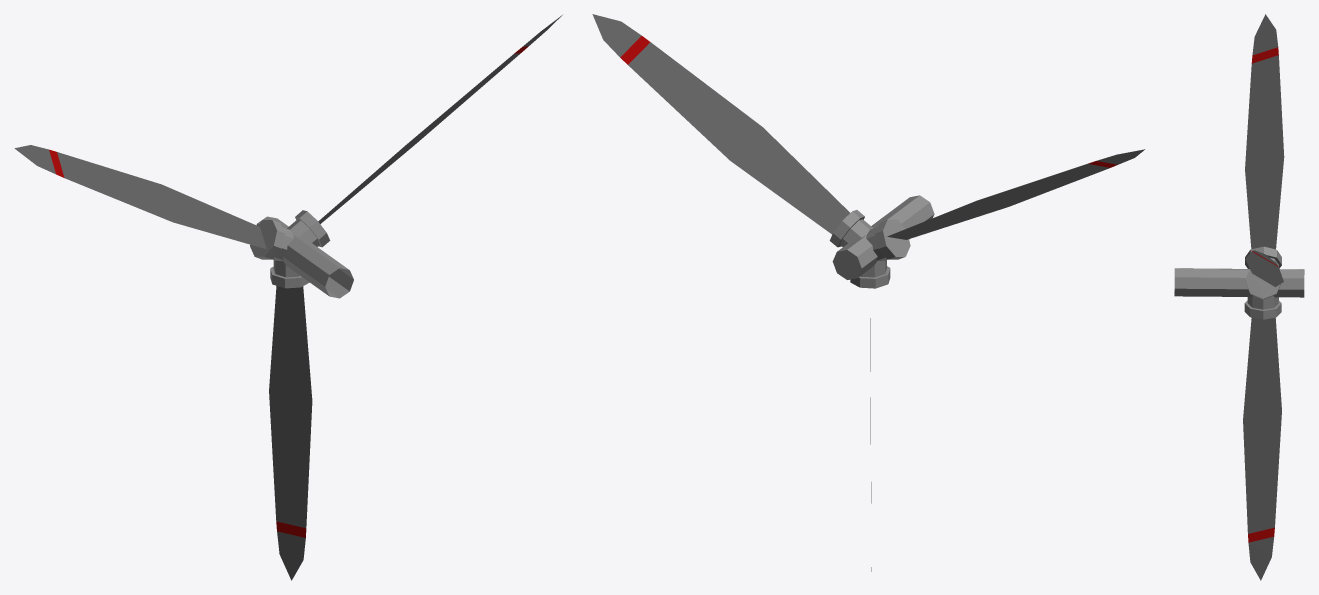
The model's file is Prop_99NP.obj.
3 renders of one model, left to right at view 1: azimuth 30°, elevation 25°; view 2: azimuth 150°, elevation 25°; view 3: azimuth 270°, elevation 25°, orthographic. The views are drawn at different scales.
Visible parts, largest first — view 1: ShapeIndexedFaceSet.002_ShapeIndexedFaceSet.003, ShapeIndexedFaceSet.001_ShapeIndexedFaceSet.002; view 2: ShapeIndexedFaceSet.002_ShapeIndexedFaceSet.003, ShapeIndexedFaceSet.001_ShapeIndexedFaceSet.002; view 3: ShapeIndexedFaceSet.002_ShapeIndexedFaceSet.003, ShapeIndexedFaceSet.001_ShapeIndexedFaceSet.002, ShapeIndexedFaceSet.003_ShapeIndexedFaceSet.004.
Part boxes in pixels (box(x1,y1,x2,y2)): ShapeIndexedFaceSet.002_ShapeIndexedFaceSet.003: box(14, 15, 562, 580); ShapeIndexedFaceSet.001_ShapeIndexedFaceSet.002: box(250, 210, 353, 298); ShapeIndexedFaceSet.002_ShapeIndexedFaceSet.003: box(592, 14, 1144, 571); ShapeIndexedFaceSet.001_ShapeIndexedFaceSet.002: box(829, 195, 934, 288); ShapeIndexedFaceSet.002_ShapeIndexedFaceSet.003: box(1243, 14, 1284, 580); ShapeIndexedFaceSet.001_ShapeIndexedFaceSet.002: box(1174, 246, 1304, 319); ShapeIndexedFaceSet.003_ShapeIndexedFaceSet.004: box(1248, 47, 1278, 542).
Bounding box in the file's own units: 1.89 × 1.63 × 0.4307.
